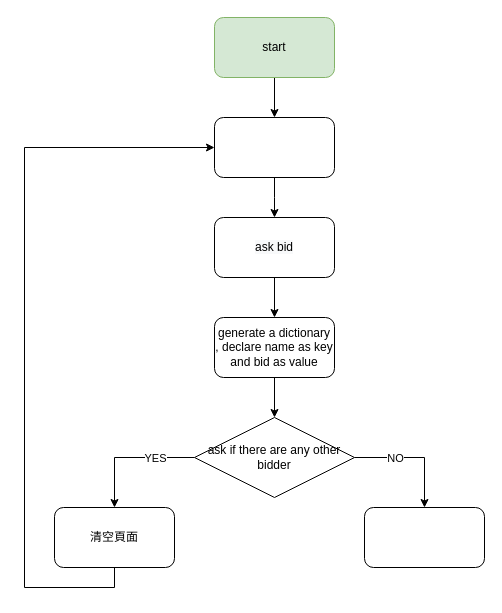
This 502x613 diagram has some shape labels left out. The box of each missing label's shape, as (x1, y1, x2, y2) in pixels:
ask bidder's name: (214, 116, 334, 178)
find the highest bid in the dictionary and declare them as winner: (364, 506, 484, 568)
